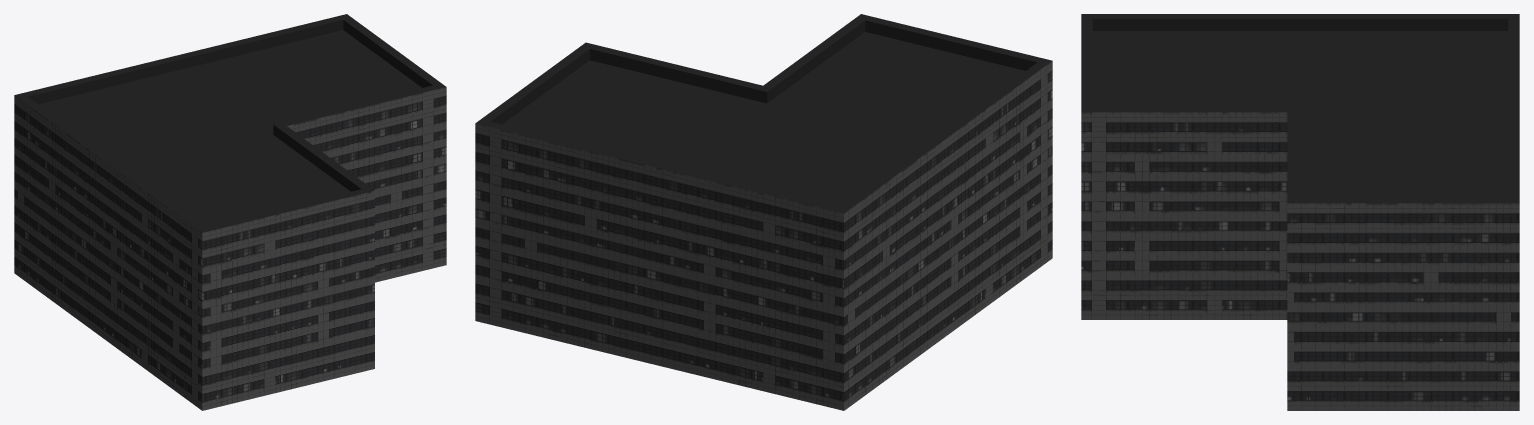
Rendered from Mesh_Chamfered-LShape.fbx.
3 renders of one model, left to right at view 1: azimuth 30°, elevation 25°; view 2: azimuth 150°, elevation 25°; view 3: azimuth 270°, elevation 25°, orthographic. The views are drawn at different scales.
Parts seen in each view (by area): view 1: Mesh_Chamfered-LShape; view 2: Mesh_Chamfered-LShape; view 3: Mesh_Chamfered-LShape.
Part boxes in pixels (bbox=[...]): Mesh_Chamfered-LShape: bbox=[14, 14, 446, 410]; Mesh_Chamfered-LShape: bbox=[475, 14, 1052, 410]; Mesh_Chamfered-LShape: bbox=[1081, 14, 1519, 410].
Bounding box in the file's own units: 44.19 × 22.61 × 43.28.
